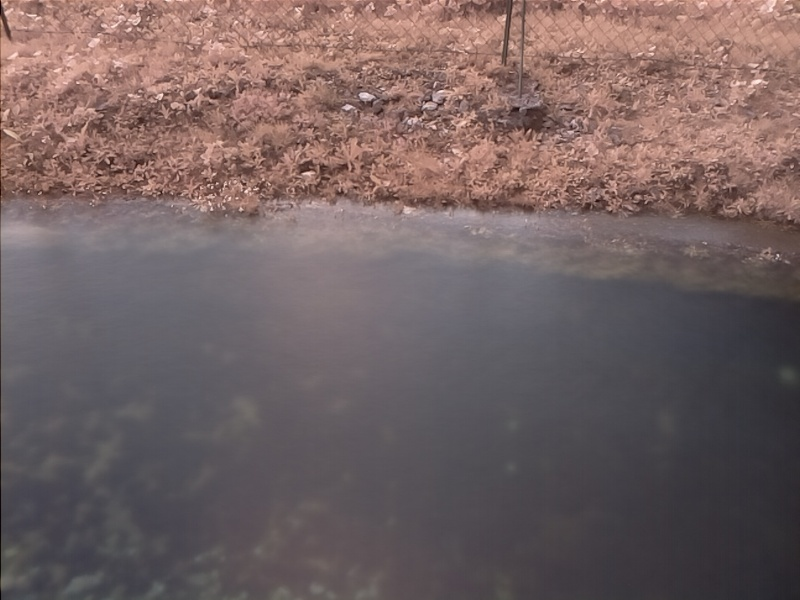Water: (1, 196, 799, 600)
